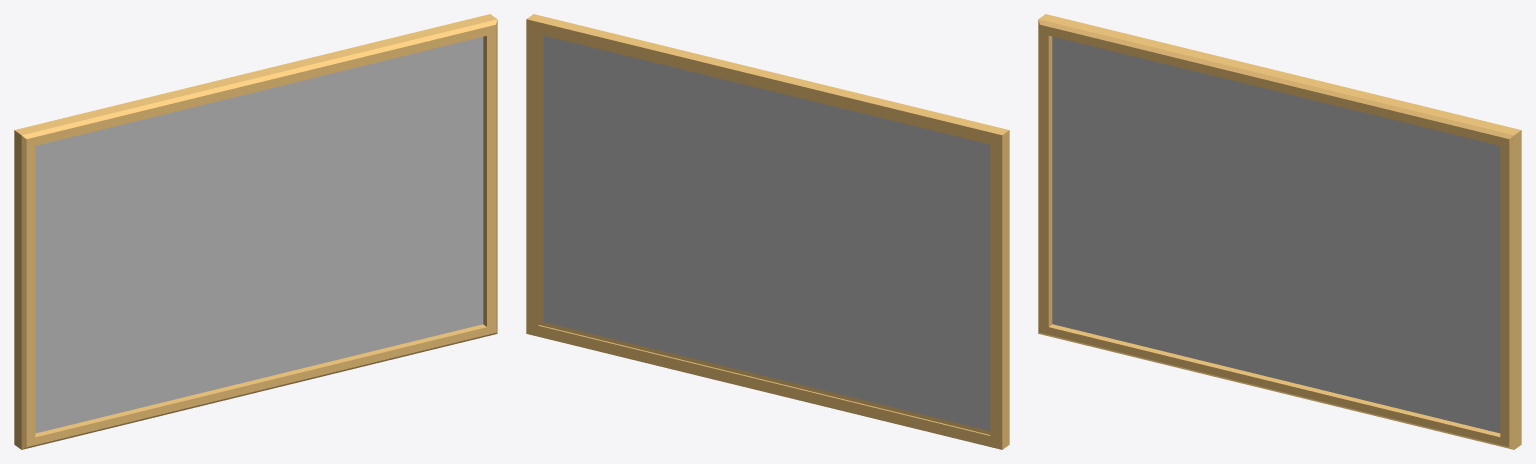
File: BlackBoard_04.fbx
3 views of the same model, side by side, from view 1: azimuth 30°, elevation 25°; view 2: azimuth 150°, elevation 25°; view 3: azimuth 330°, elevation 25° (orthographic).
Visible parts, largest first — view 1: BlackBoard_004; view 2: BlackBoard_004; view 3: BlackBoard_004.
Boxes of the visible parts, x1,y1,x2,y2 form: BlackBoard_004: (14, 14, 497, 449); BlackBoard_004: (526, 14, 1009, 449); BlackBoard_004: (1038, 14, 1521, 449).
Size of the model in its own units: 247 by 156 by 8.07.
